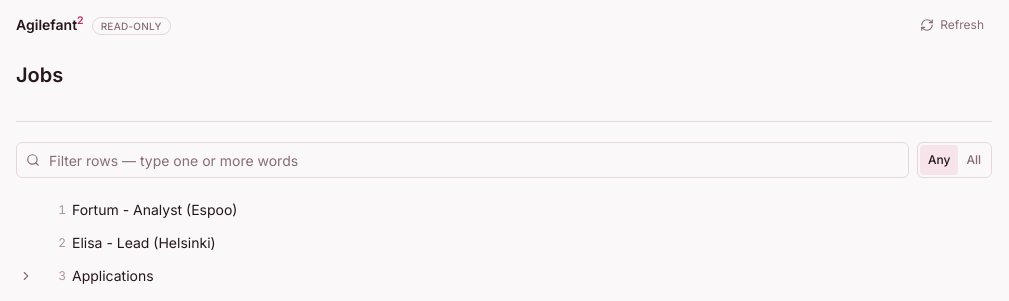
Scenario: on the page › says so when nothing matches, and brings the list back when cleared
Expected: the text "Fortum - Analyst (Espoo)" is shown, [72,200,237,220]
Type "tampere" into the field labelled "Filter rows" at (462, 160), box [16,142,909,178]
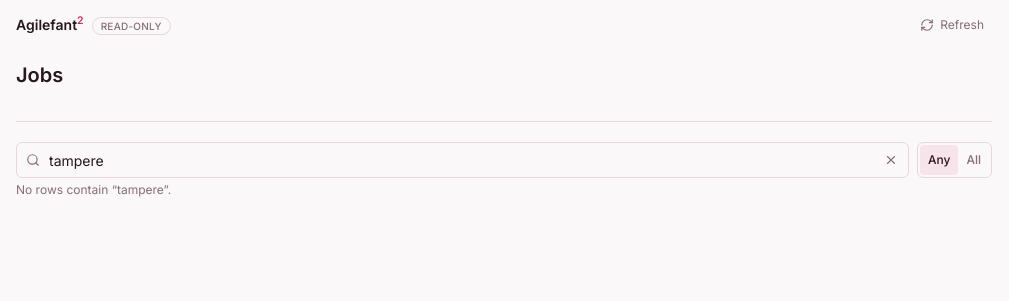
Now the message reads "No rows contain “tampere”.", box [16,182,171,197]
Click the button named "Clear filter" at (891, 160), box [879,148,903,172]
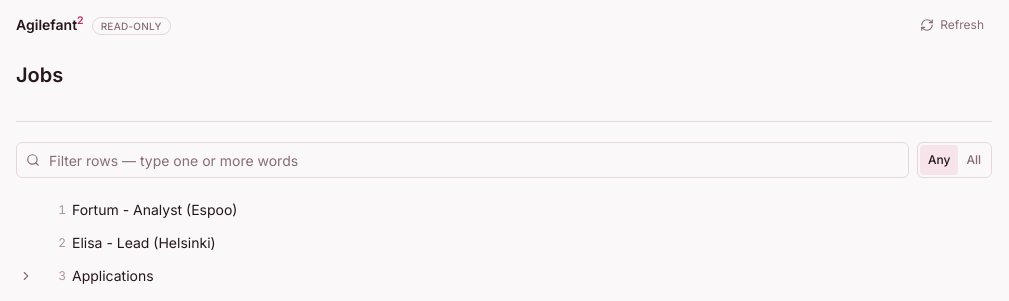
Now the field labelled "Filter rows" is empty, box [16,142,909,178]
